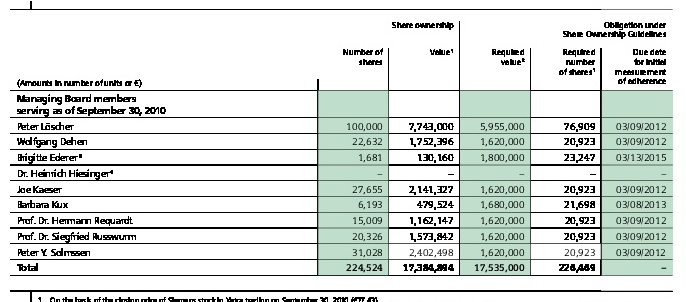table: (0, 0, 686, 302)
